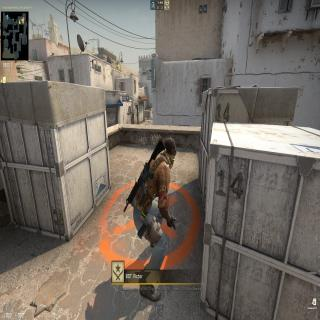T-Head: (163, 135, 177, 173)
